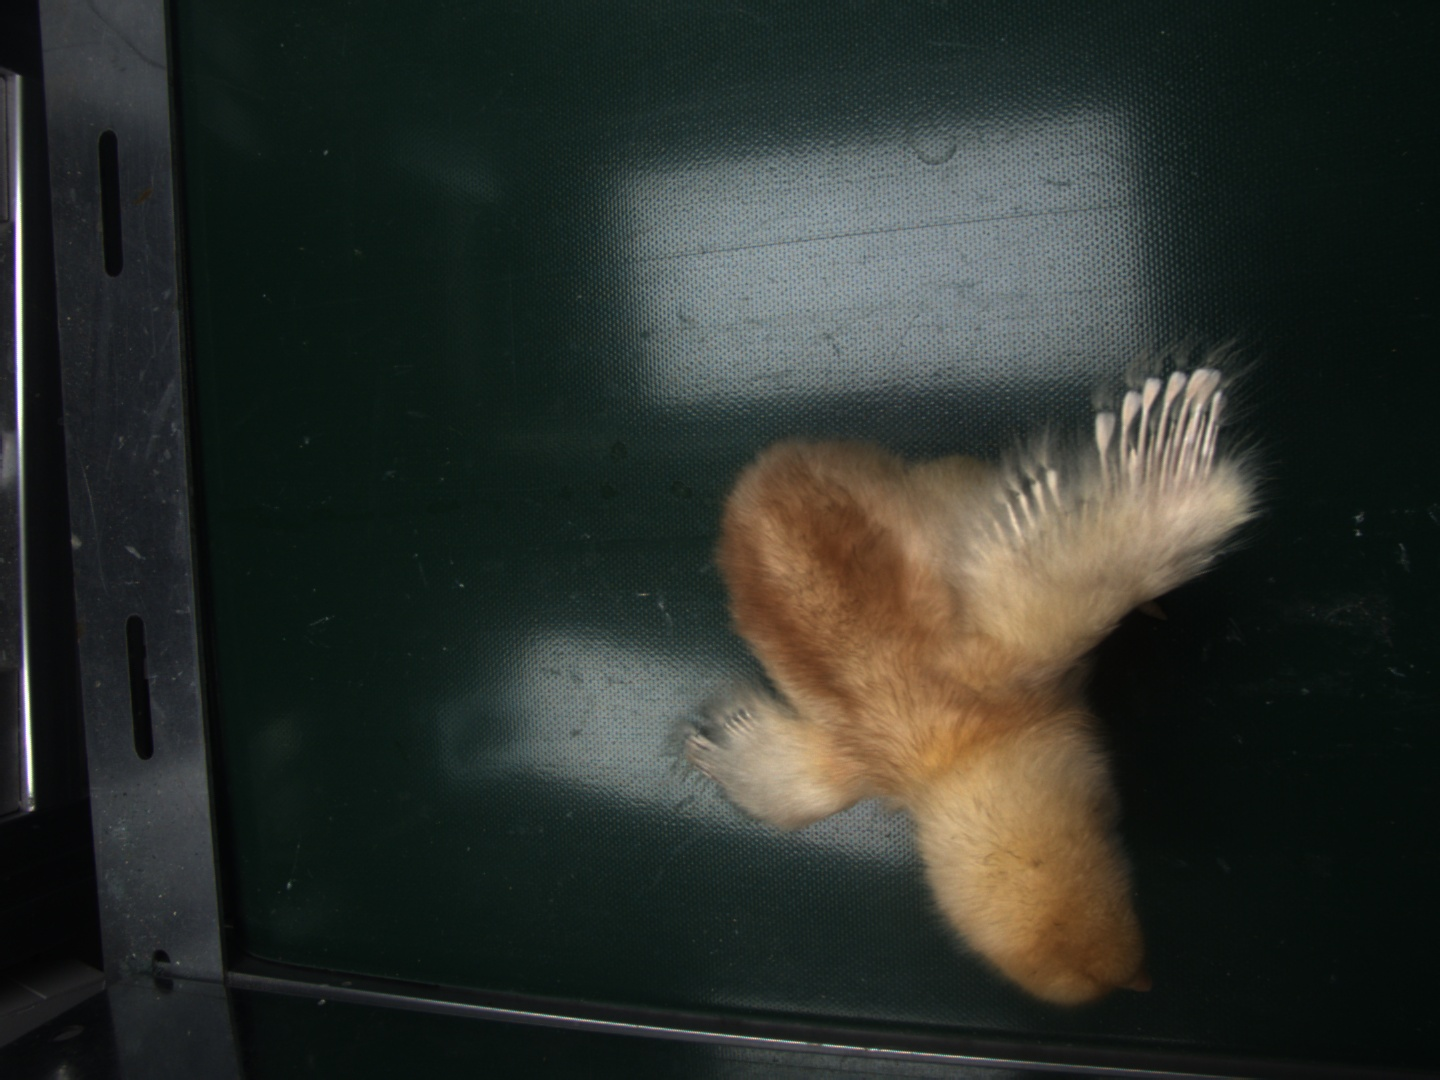female: (1109, 368, 1230, 473)
